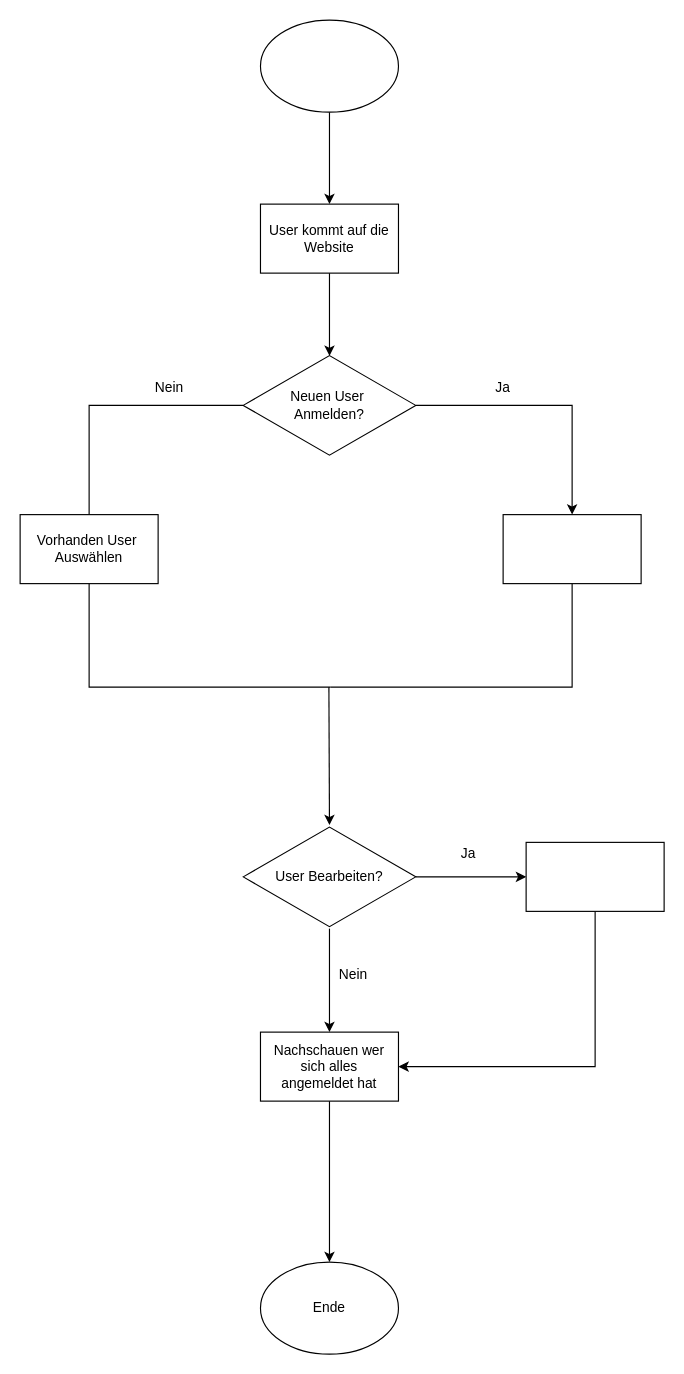
The diagram is 684 pixels wide and 1374 high, and some of its shapes have lost their labels. Each missing label, with the box of its shape:
Nachnamen, Vornamen oder Email bearbeiten: (525, 841, 664, 911)
Neuen User Anmelden: (502, 513, 641, 584)
Start: (259, 19, 398, 112)
